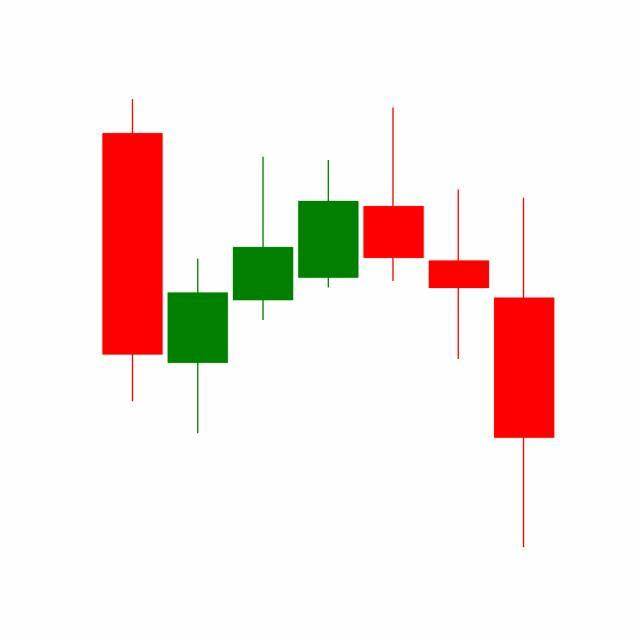Hikkake Pattern: (229, 103, 555, 549)
